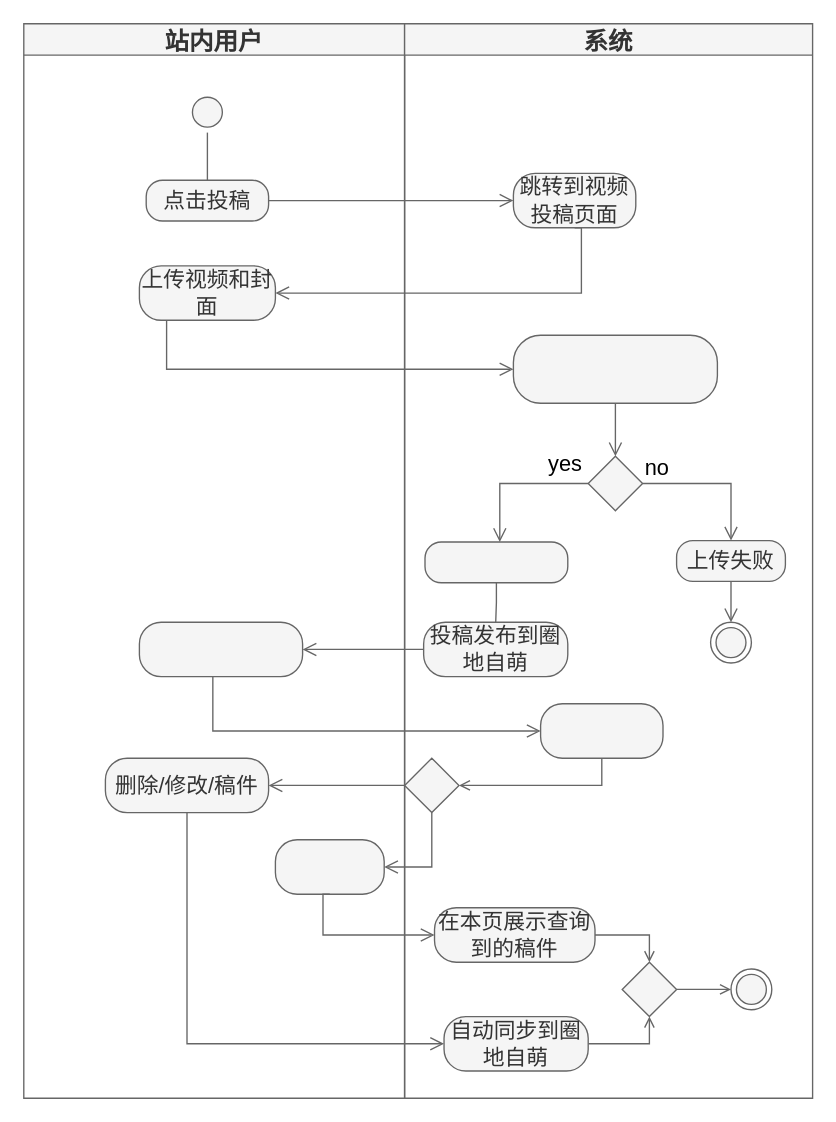
Image size: 836x1122. Some labels were removed from this diagram. The shapes that lost their labels are listed below. From the top down, each one's centre as x and y in pixels, then its label:
At [614,368]: "系统检查文件大小和格式是否正确".
At [496,562]: "上传到服务器".
At [220,649]: "点击稿件管理".
At [601,730]: "跳转到稿件管理页面".
At [329,866]: "模糊查询稿件".
